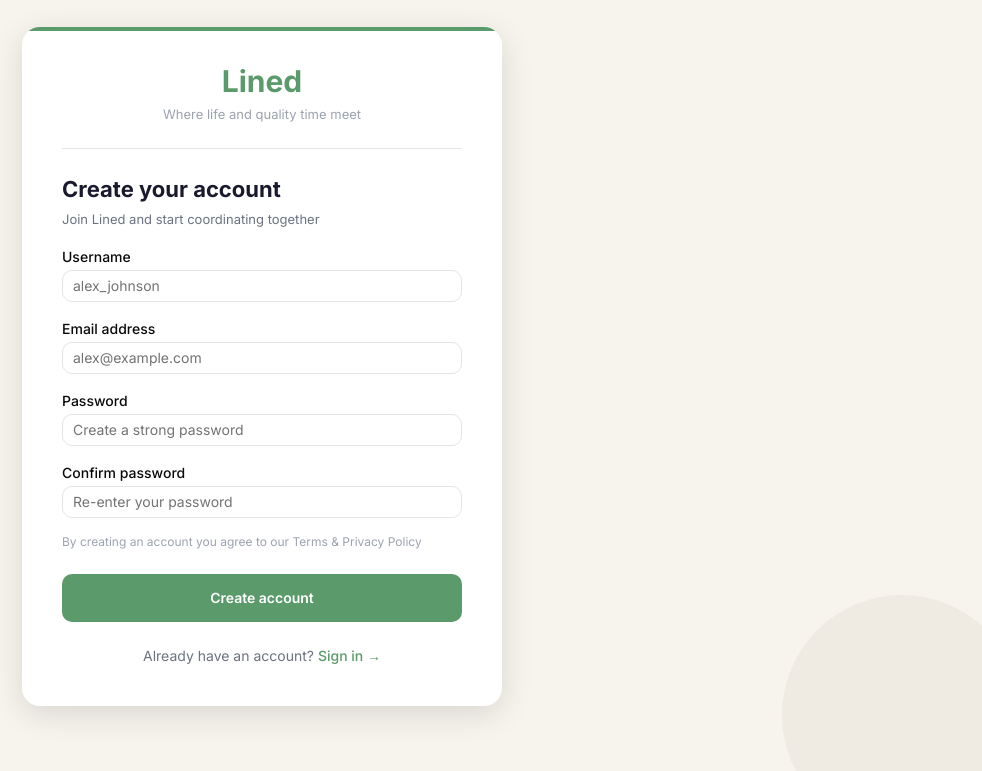
Scenario: SignUpPage › shows a mismatch error when the passwords differ and blocks submission
Type "new_user" into the field labelled "Username" at (262,286), box [62,270,462,302]
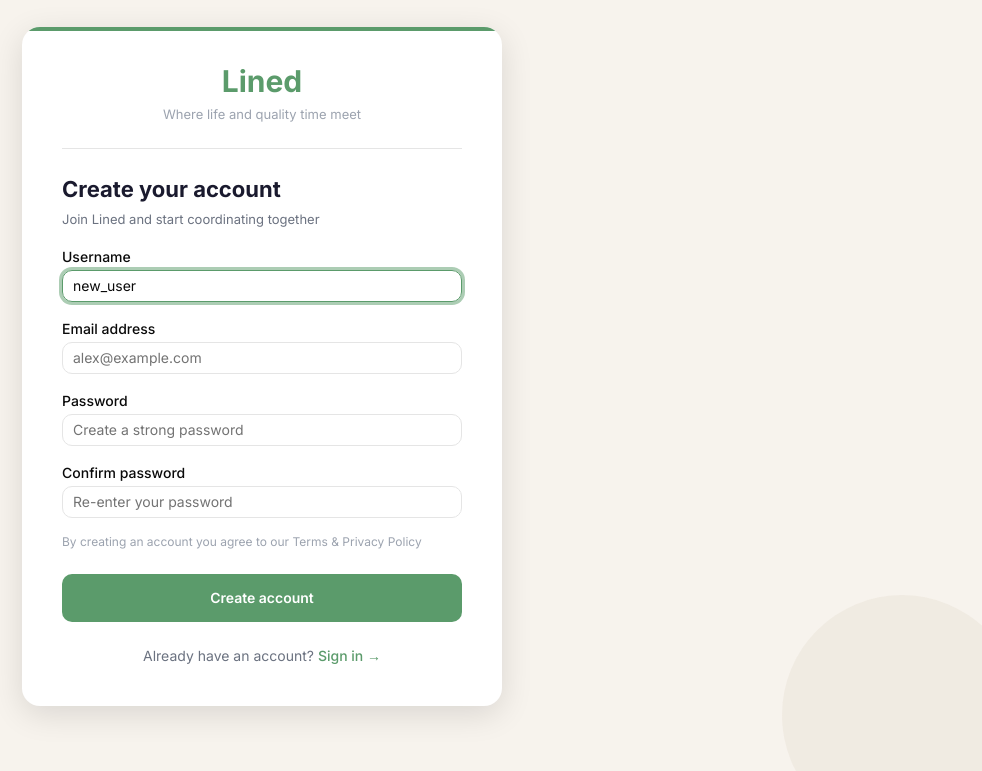
Type "new_user@lined.app" into the field labelled "Email address" at (262,358), box [62,342,462,374]
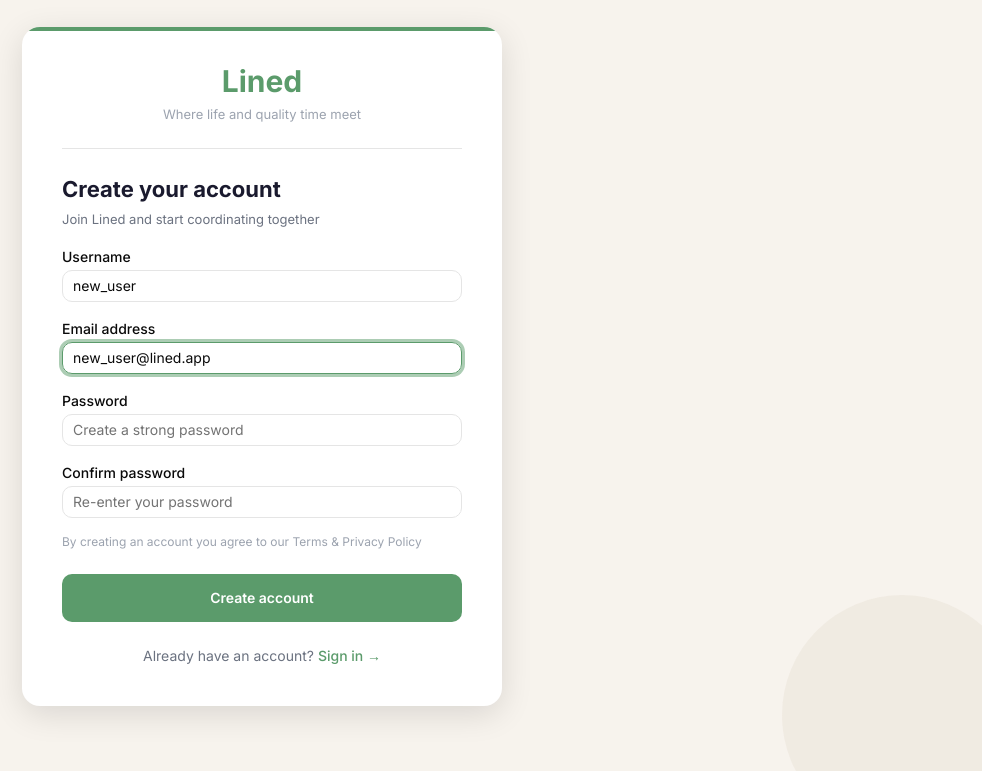
Type "strongpass1" into the password field labelled "Password" at (262,430), box [62,414,462,446]
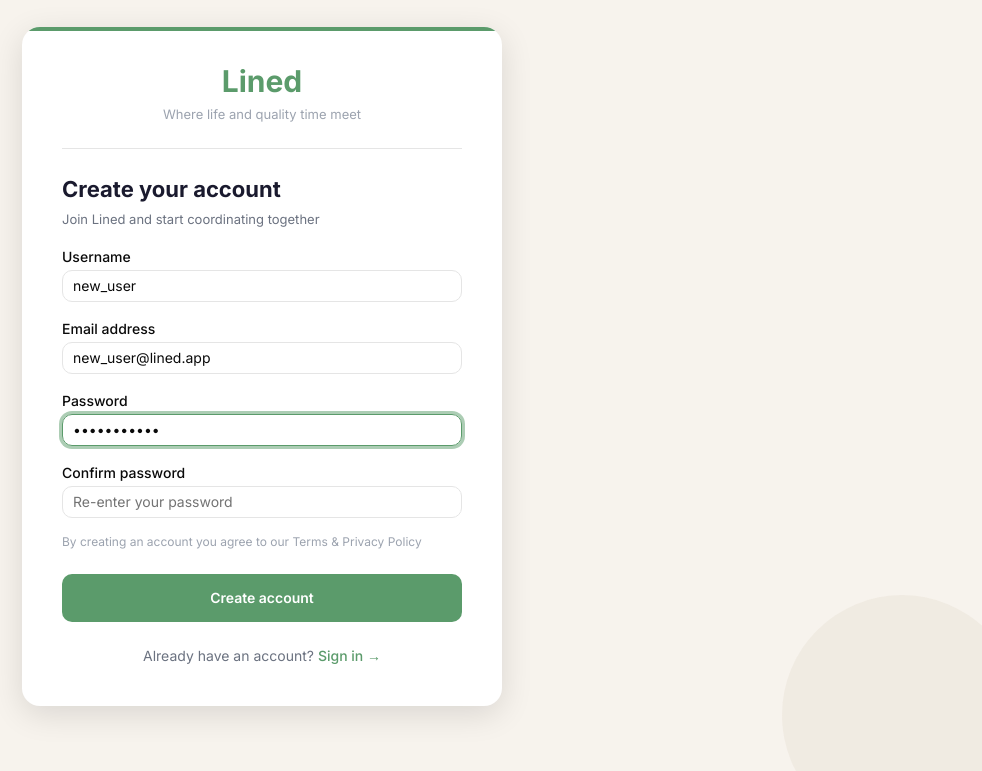
Type "different1" into the password field labelled "Confirm password" at (262,502), box [62,486,462,518]
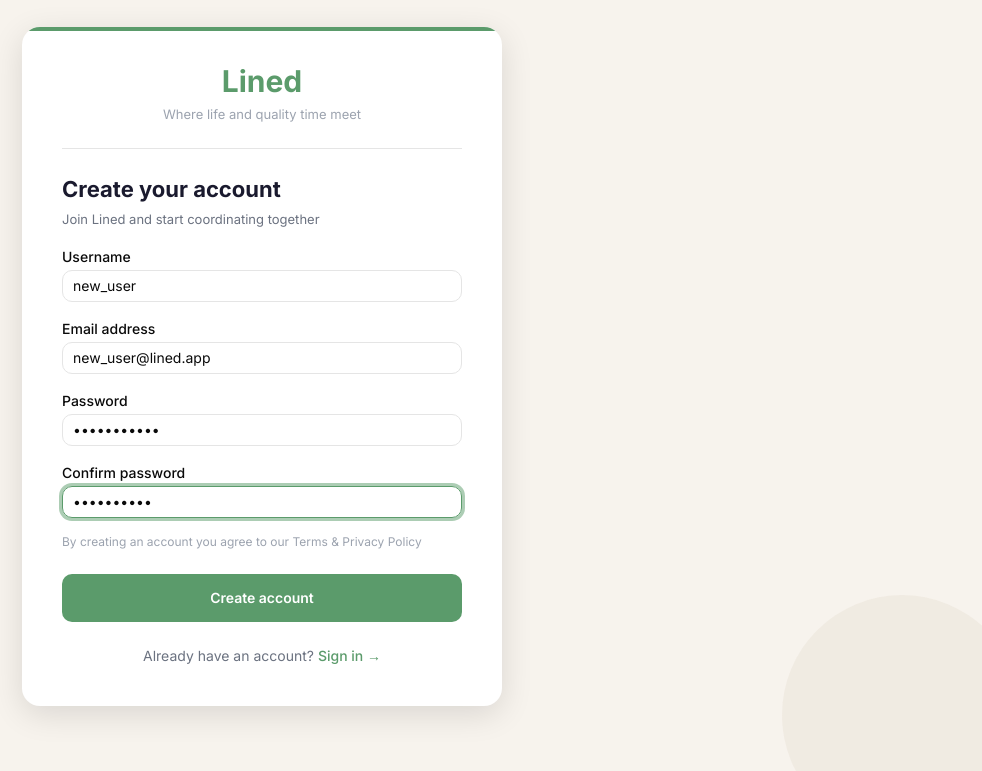
Click the button "Create account" at (262,598), box [62,574,462,622]
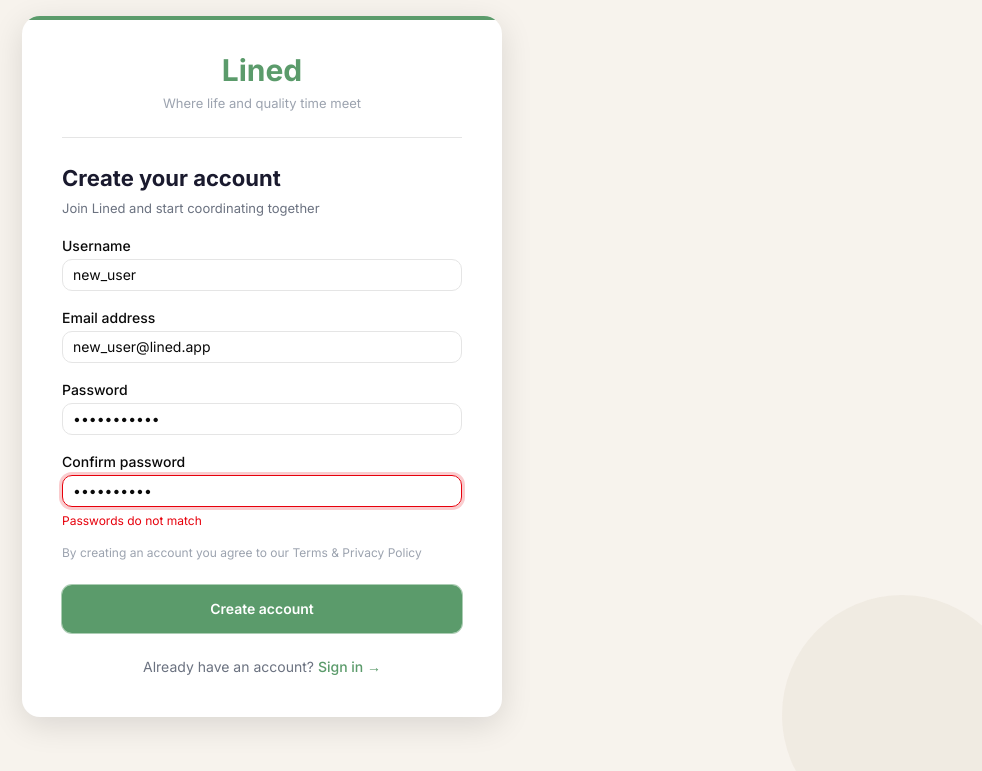
Now the text "Passwords do not match" is shown, box [62,512,202,528]
